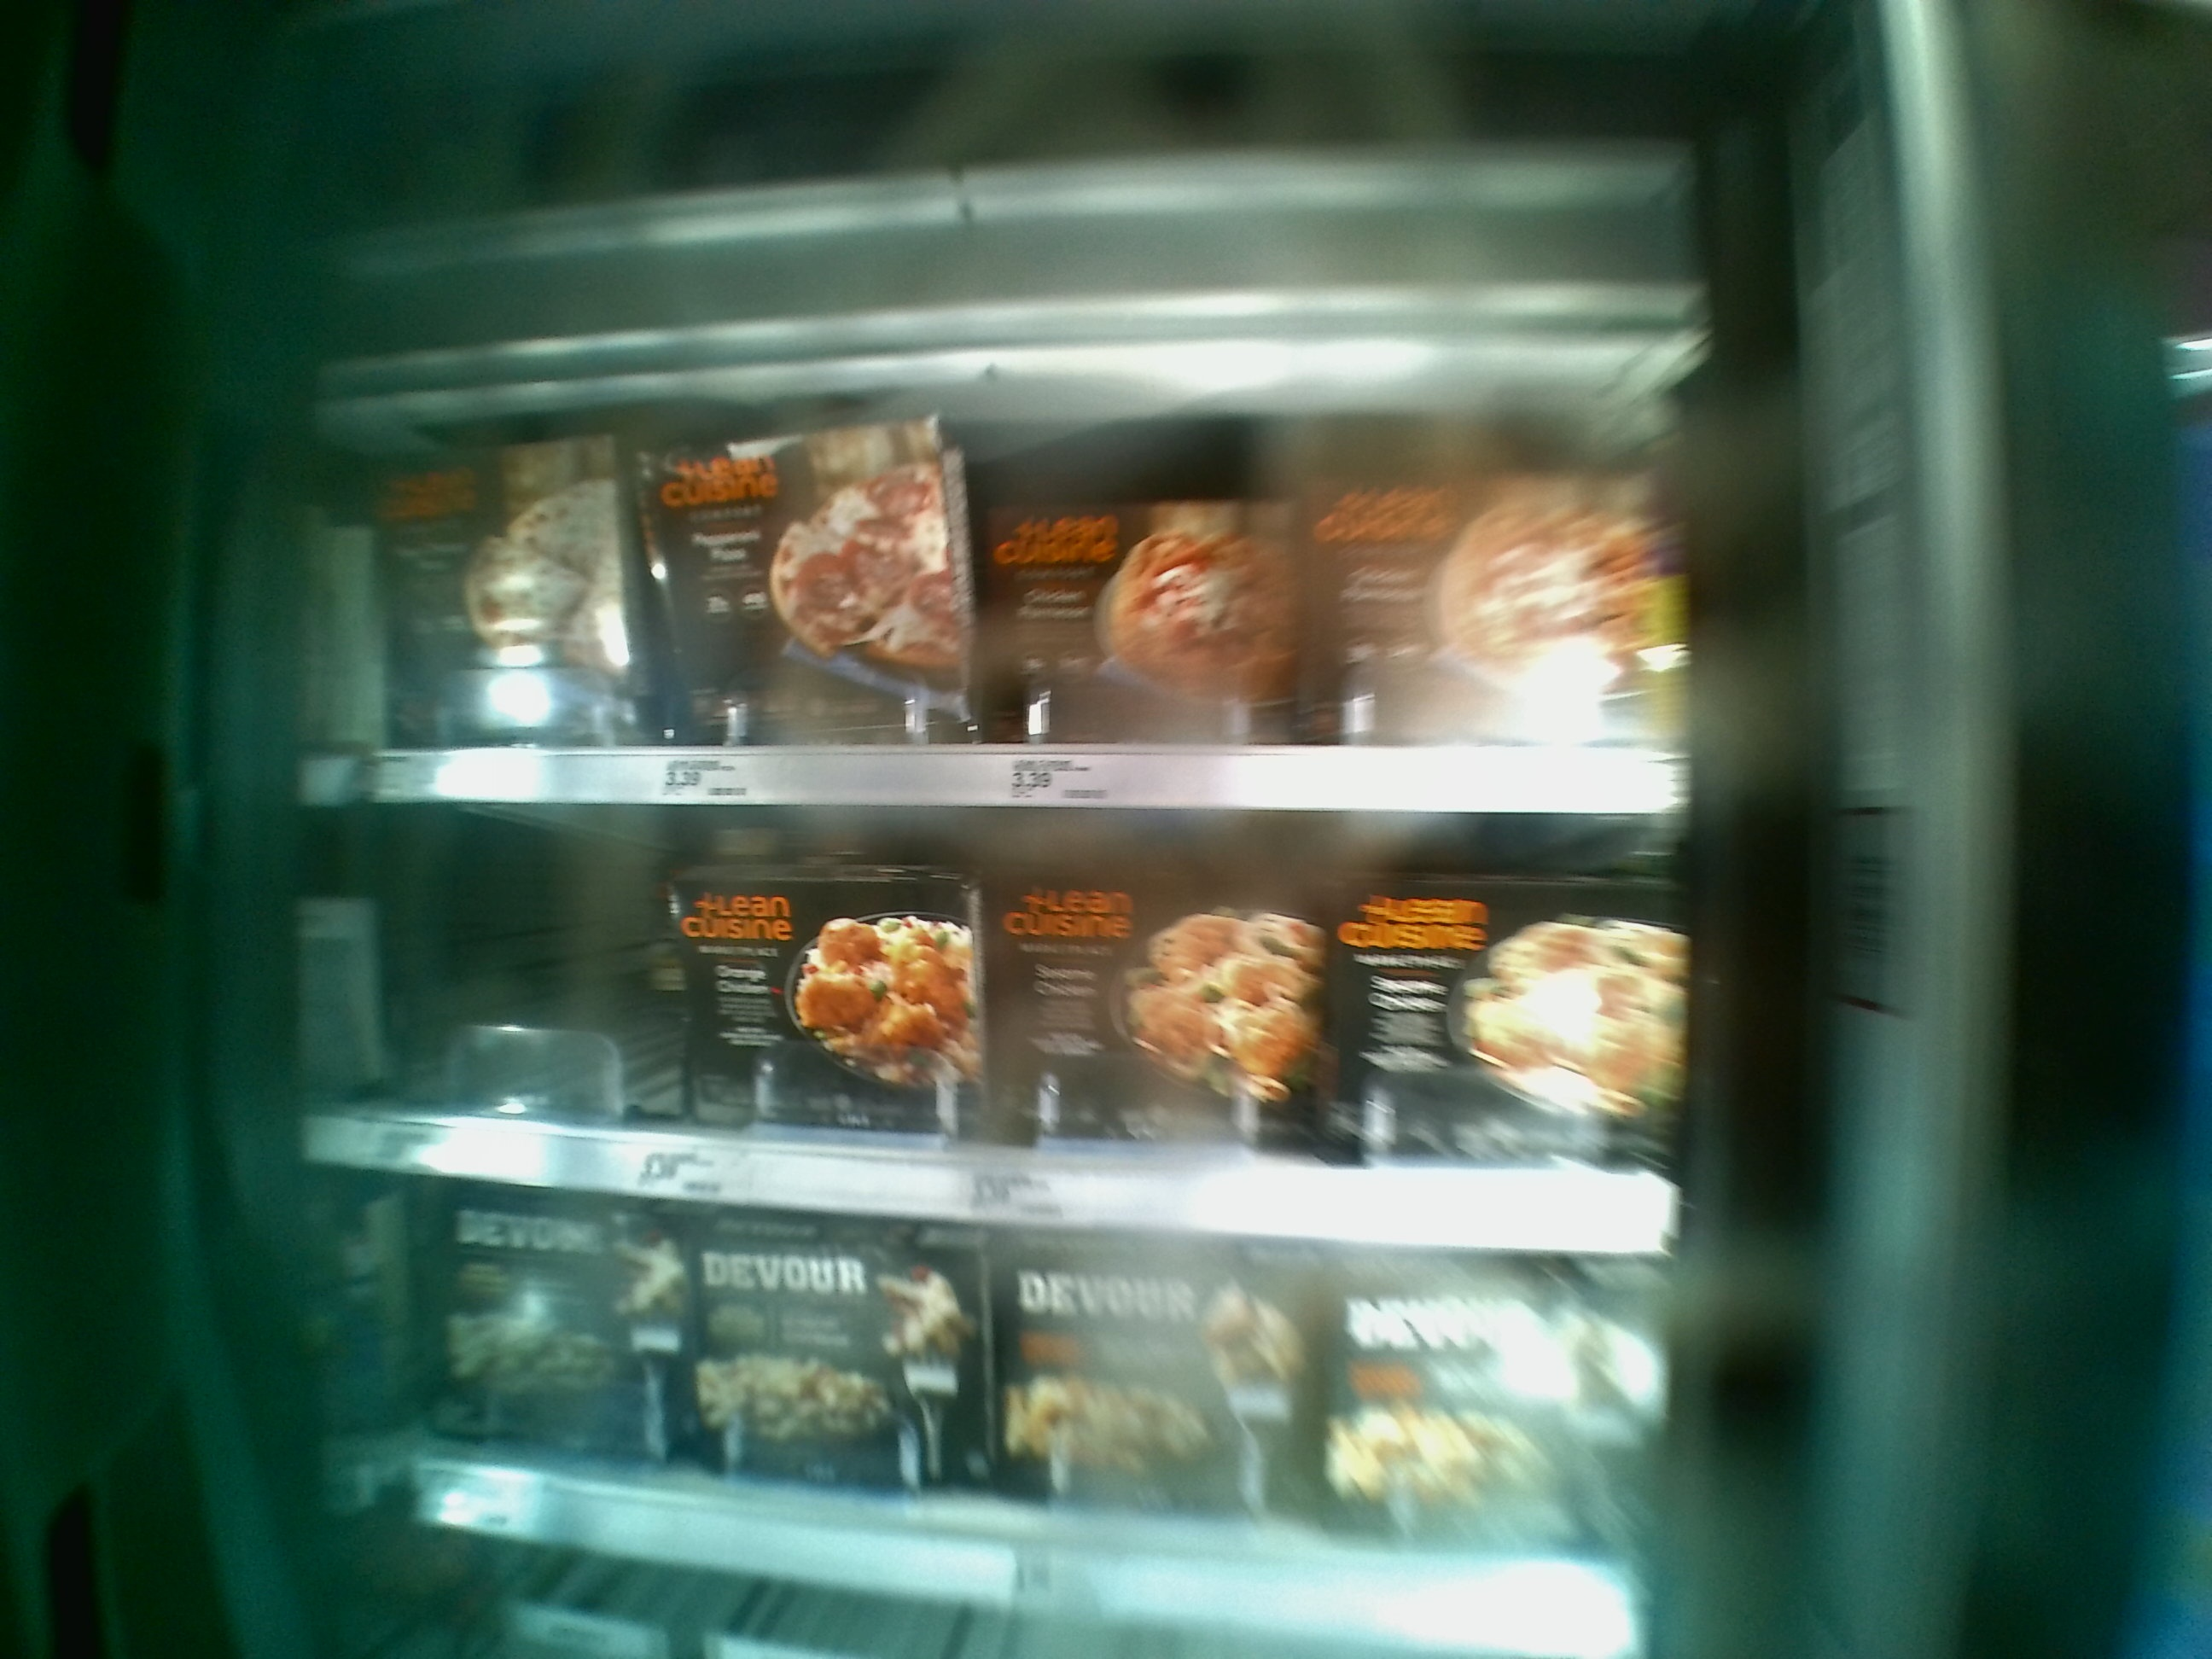Shelf: (298, 809, 1674, 1263), (303, 396, 1679, 807)
